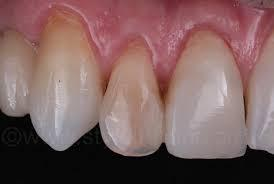Discoloration: (104, 38, 166, 166), (30, 13, 105, 110)
